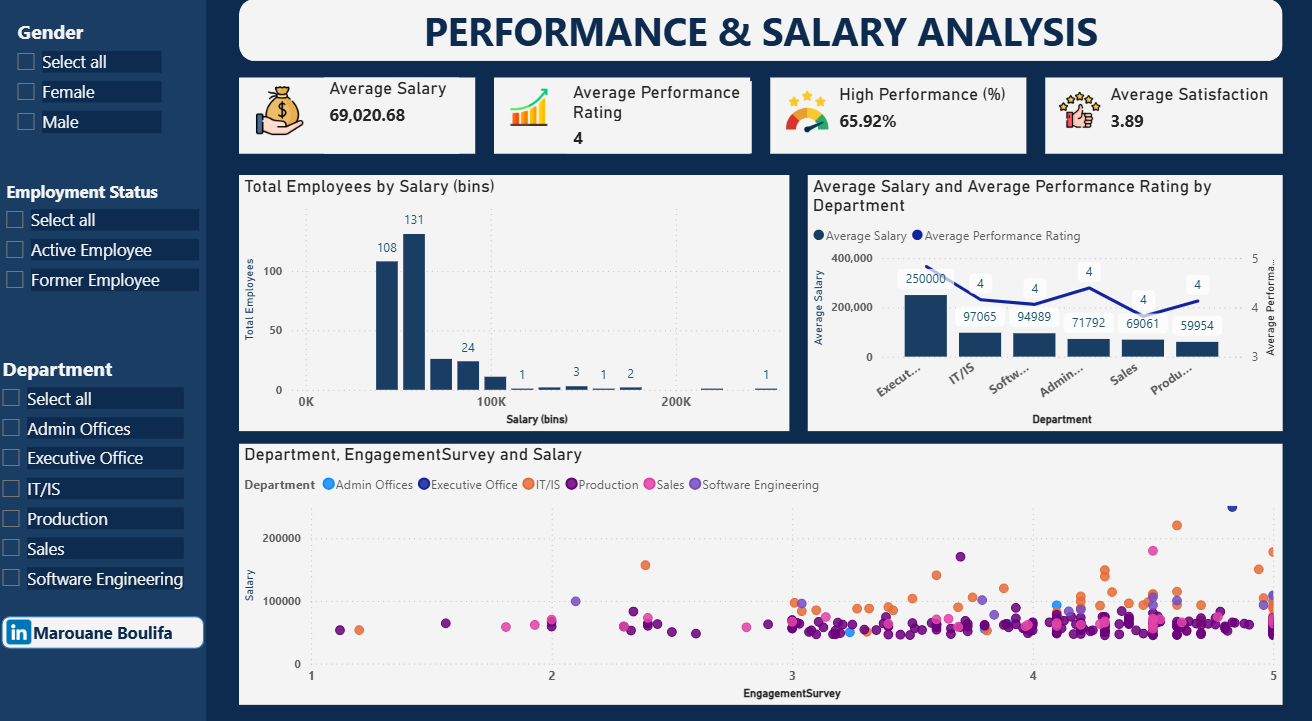

This screenshot's page, from the dashboard's own definition file:
{"tool":"powerbi","page":{"name":"PERFORMANCE & SALARY ANALYSIS","canvas":[1280,720],"ordinal":2},"visuals":[{"type":"shape","box":[0,0,209.9,720.2],"z":0,"group":"g1"},{"type":"shape","box":[241.3,89.3,228,73.6],"z":0},{"type":"shape","box":[487.8,89.3,247.3,73.6],"z":1000},{"type":"slicer","fields":{"Values":["HRDataset_v14.Department"]},"box":[0,352.3,193,241.3],"z":1000,"group":"g1"},{"type":"slicer","fields":{"Values":["HRDataset_v14.Gender"]},"box":[14.5,27.7,156.8,142.4],"z":2000,"group":"g1"},{"type":"shape","box":[753.6,89.3,247.3,73.6],"z":2000},{"type":"shape","box":[1019.4,89.3,229.2,73.6],"z":3000},{"type":"multiRowCard","title":"Average Salary","fields":{"Values":["Calendar.Average Salary"]},"box":[323.3,89.3,130.3,73.6],"z":4000},{"type":"multiRowCard","title":"Average Performance Rating","fields":{"Values":["Calendar.Average Performance Rating"]},"box":[558.6,92.9,177.3,70],"z":5000},{"type":"multiRowCard","title":"Average Satisfaction","fields":{"Values":["Calendar.Average Satisfaction"]},"box":[1077.4,95.3,162.9,53.1],"z":6000},{"type":"multiRowCard","title":"High Performance (%)","fields":{"Values":["Calendar.High Performers (%)"]},"box":[815.6,95.3,181,55.5],"z":7000},{"type":"scatterChart","fields":{"X":["HRDataset_v14.EngagementSurvey"],"Y":["HRDataset_v14.Salary"],"Series":["HRDataset_v14.Department"]},"box":[241.3,442.8,1007.4,252.1],"z":8000},{"type":"lineClusteredColumnComboChart","fields":{"Category":["HRDataset_v14.Department"],"Y":["Calendar.Average Salary"],"Y2":["Calendar.Average Performance Rating"]},"box":[790.2,183.4,458.4,247.3],"z":9000},{"type":"clusteredColumnChart","fields":{"Category":["HRDataset_v14.Salary (bins)"],"Y":["HRDataset_v14.Total Employees"]},"box":[241.3,183.4,530.8,247.3],"z":10000},{"type":"shape","box":[241.3,13.3,1007.4,60.3],"z":11000},{"type":"group","id":"g1","title":"Slicer Pane","box":[0,0,209.9,720.2],"z":12000},{"type":"slicer","fields":{"Values":["HRDataset_v14.Employment Status"]},"box":[3.6,183.4,203.9,154.4],"z":13000},{"type":"image","box":[252.1,92.9,56.7,56.7],"z":14000},{"type":"image","box":[763.7,94.1,51.9,55.5],"z":15000},{"type":"image","box":[498.3,92.9,45.8,50.7],"z":16000},{"type":"image","box":[1027.9,95.3,49.5,50.7],"z":17000},{"type":"shape","box":[12.1,609.3,195.4,31.4],"z":18000},{"type":"image","box":[12.1,606.8,33.8,35],"z":19000}]}

Visuals, with their boxes in screenshot pixels (x1, y1, x2, y2), scaled from the page's 1280x720 canvas onto the 1312x721 screenshot:
shape: 0/0/215/720
shape: 247/89/481/163
shape: 500/89/753/163
slicer - HRDataset_v14.Department: 0/353/198/594
slicer - HRDataset_v14.Gender: 15/28/176/170
shape: 772/89/1026/163
shape: 1045/89/1280/163
"Average Salary" multiRowCard: 331/89/465/163
"Average Performance Rating" multiRowCard: 573/93/754/163
"Average Satisfaction" multiRowCard: 1104/95/1271/149
"High Performance (%)" multiRowCard: 836/95/1022/151
scatterChart - HRDataset_v14.EngagementSurvey x HRDataset_v14.Salary: 247/443/1280/696
lineClusteredColumnComboChart - HRDataset_v14.Department x Calendar.Average Salary: 810/184/1280/431
clusteredColumnChart - HRDataset_v14.Salary (bins) x HRDataset_v14.Total Employees: 247/184/791/431
shape: 247/13/1280/74
"Slicer Pane" group: 0/0/215/720
slicer - HRDataset_v14.Employment Status: 4/184/213/338
image: 258/93/317/150
image: 783/94/836/150
image: 511/93/558/144
image: 1054/95/1104/146
shape: 12/610/213/642
image: 12/608/47/643
